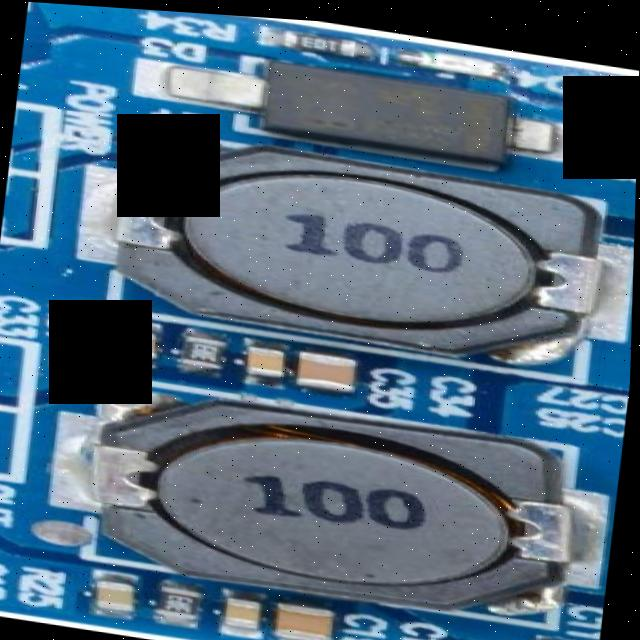LED: (397, 39, 523, 73)
capacitor 1V5: (288, 336, 379, 391), (86, 313, 162, 359), (268, 589, 334, 636), (78, 565, 138, 613), (242, 336, 294, 378), (215, 590, 266, 632), (600, 74, 639, 121), (523, 624, 583, 640)
diode -D1-: (204, 44, 567, 170)
inductor F1: (90, 380, 565, 622), (126, 131, 592, 367)
resistor IR1: (271, 15, 365, 52), (145, 581, 210, 621), (178, 330, 225, 367)
